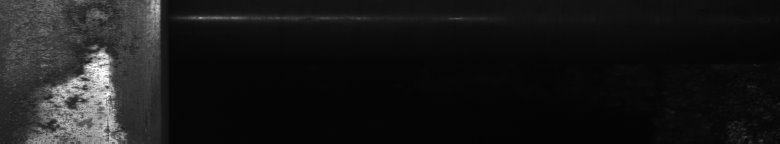kb: (30, 5, 127, 136)
